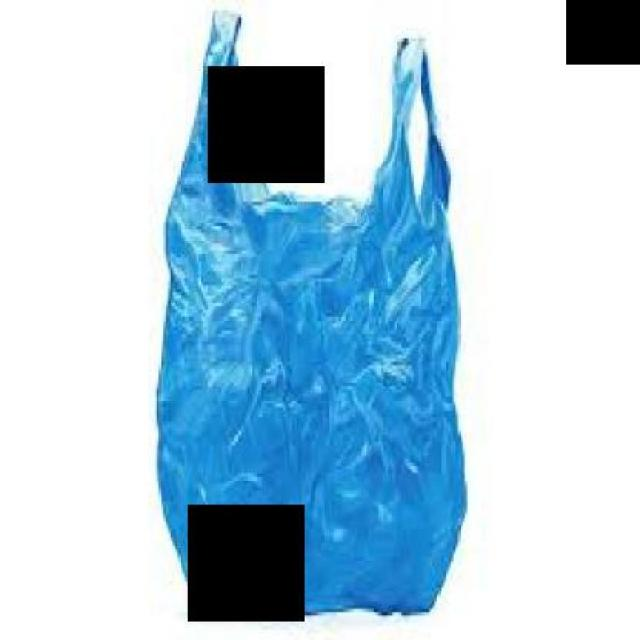plastic bag: (135, 0, 464, 632)
